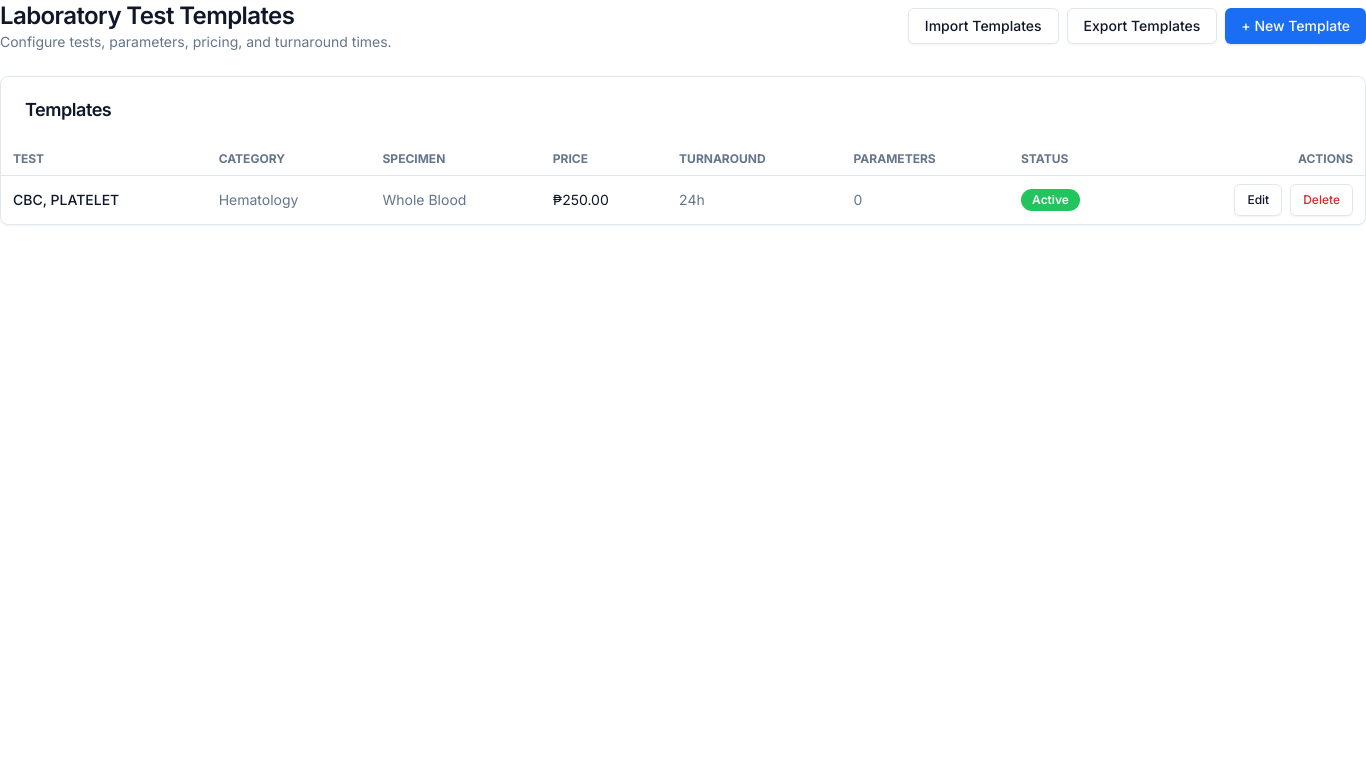
LaboratoryTemplatesPage - Import/Export (bulk Excel maintenance) › 3: clicking Import Templates opens the import dialog
The width and height of the screenshot is (1366, 768).
Click the button "Import Templates" at (983, 26), box [908, 8, 1058, 44]
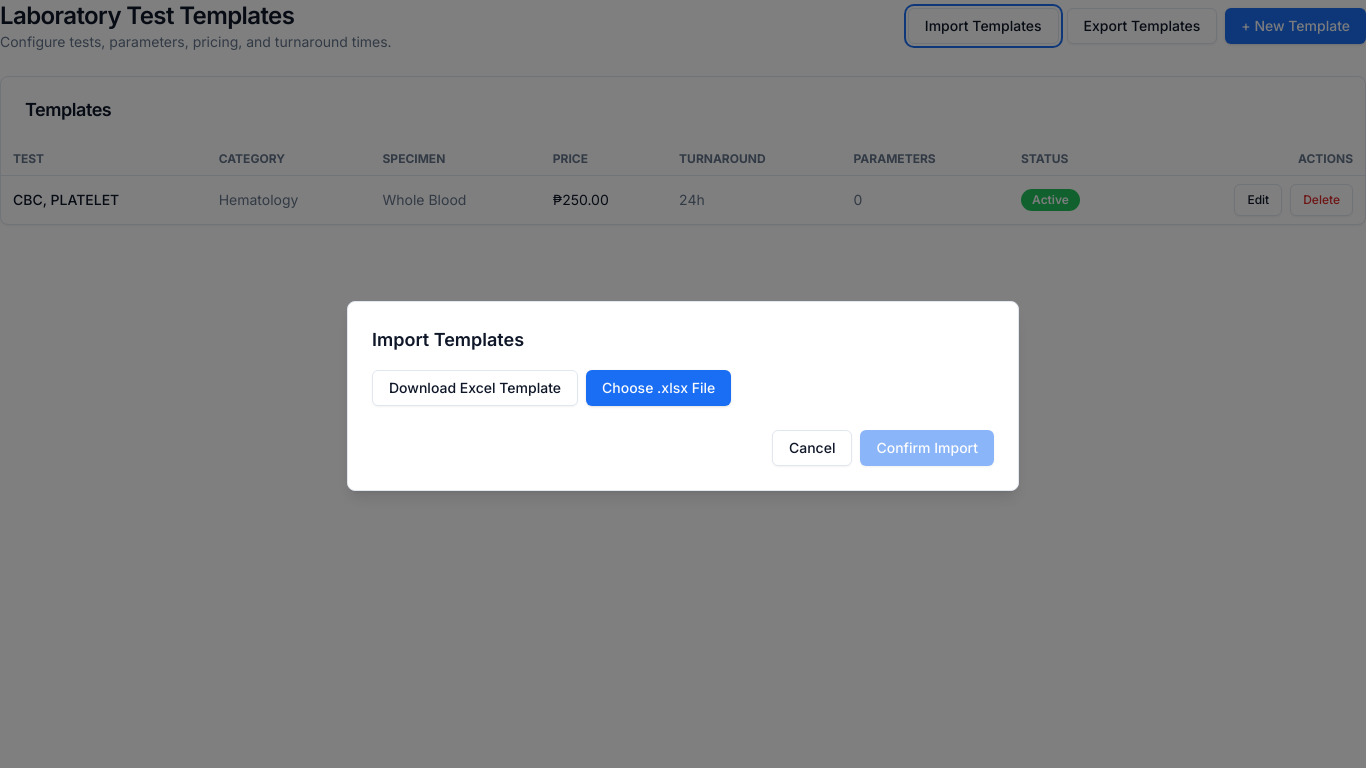
Now the heading "Import Templates" is shown, box [372, 329, 524, 350]
